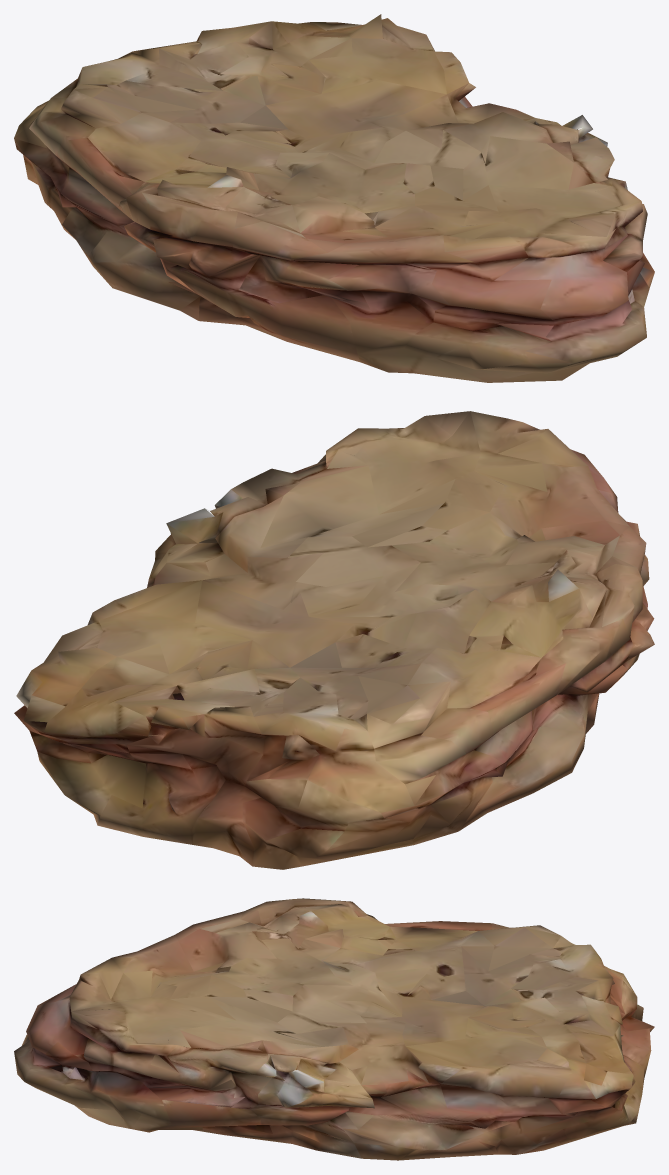
The model's file is rock-arid-slab.glb.
The picture shows the model from 3 angles, top to bottom: view 1: azimuth 30°, elevation 25°; view 2: azimuth 150°, elevation 25°; view 3: azimuth 270°, elevation 25°; orthographic projection. The views are drawn at different scales.
Parts seen in each view (by area): view 1: tripo_node_80753f25-5510-4085-995b-37efd57bad68; view 2: tripo_node_80753f25-5510-4085-995b-37efd57bad68; view 3: tripo_node_80753f25-5510-4085-995b-37efd57bad68.
Part boxes in pixels (left/top/right/bottom): tripo_node_80753f25-5510-4085-995b-37efd57bad68: left=14, top=14, right=654, bottom=382; tripo_node_80753f25-5510-4085-995b-37efd57bad68: left=14, top=411, right=654, bottom=869; tripo_node_80753f25-5510-4085-995b-37efd57bad68: left=14, top=898, right=654, bottom=1160.
Bounding box in the file's own units: 1.3 × 0.4 × 1.97.
1 material, 1 textured.
